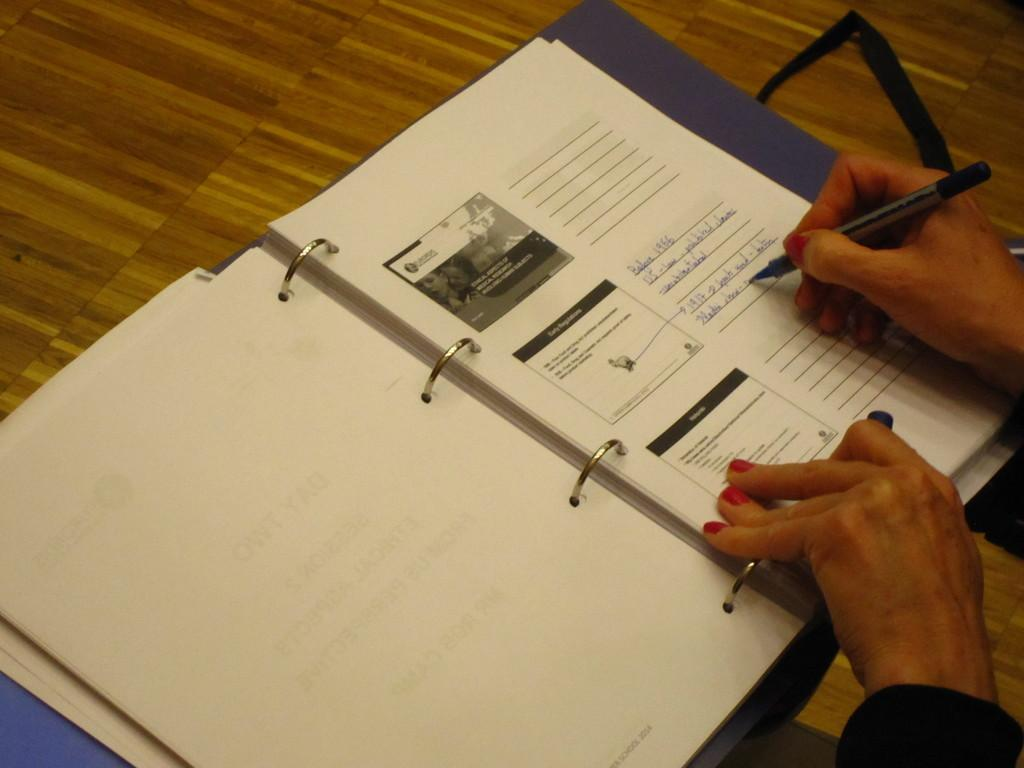pen: (750, 157, 993, 284)
